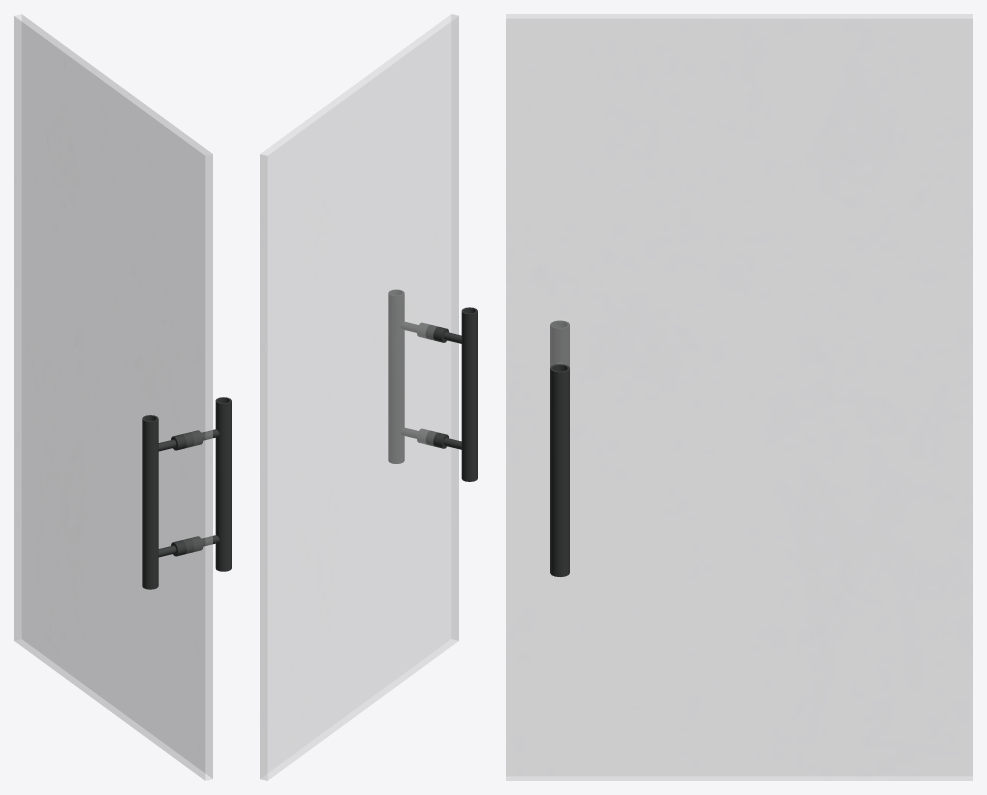
File: Office_Door.fbx
3 renders of one model, left to right at view 1: azimuth 30°, elevation 25°; view 2: azimuth 150°, elevation 25°; view 3: azimuth 270°, elevation 25°, orthographic. The views are drawn at different scales.
Visible parts, largest first — view 1: SM_Office_Door; view 2: SM_Office_Door; view 3: SM_Office_Door.
Part boxes in pixels (x1,y1,x2,y2): SM_Office_Door: [14, 14, 231, 780]; SM_Office_Door: [260, 14, 477, 780]; SM_Office_Door: [506, 14, 972, 780].
Bounding box in the file's own units: 34.57 × 236 × 131.
